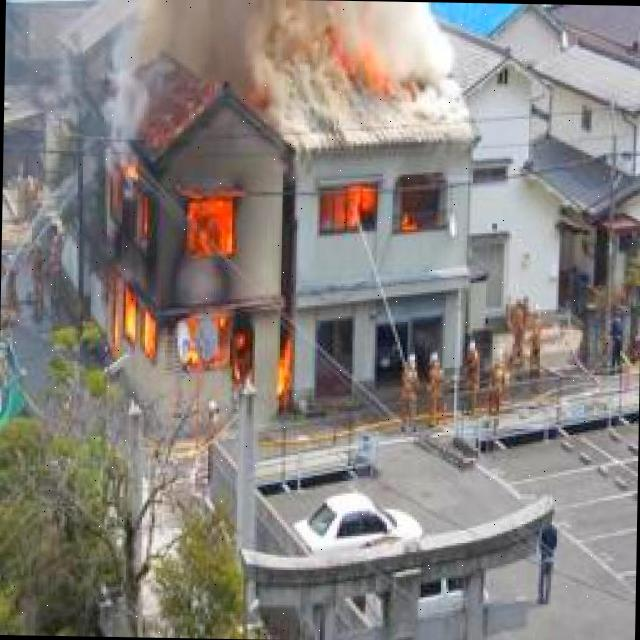fire: (90, 145, 307, 424), (288, 26, 428, 100), (320, 185, 454, 240)
